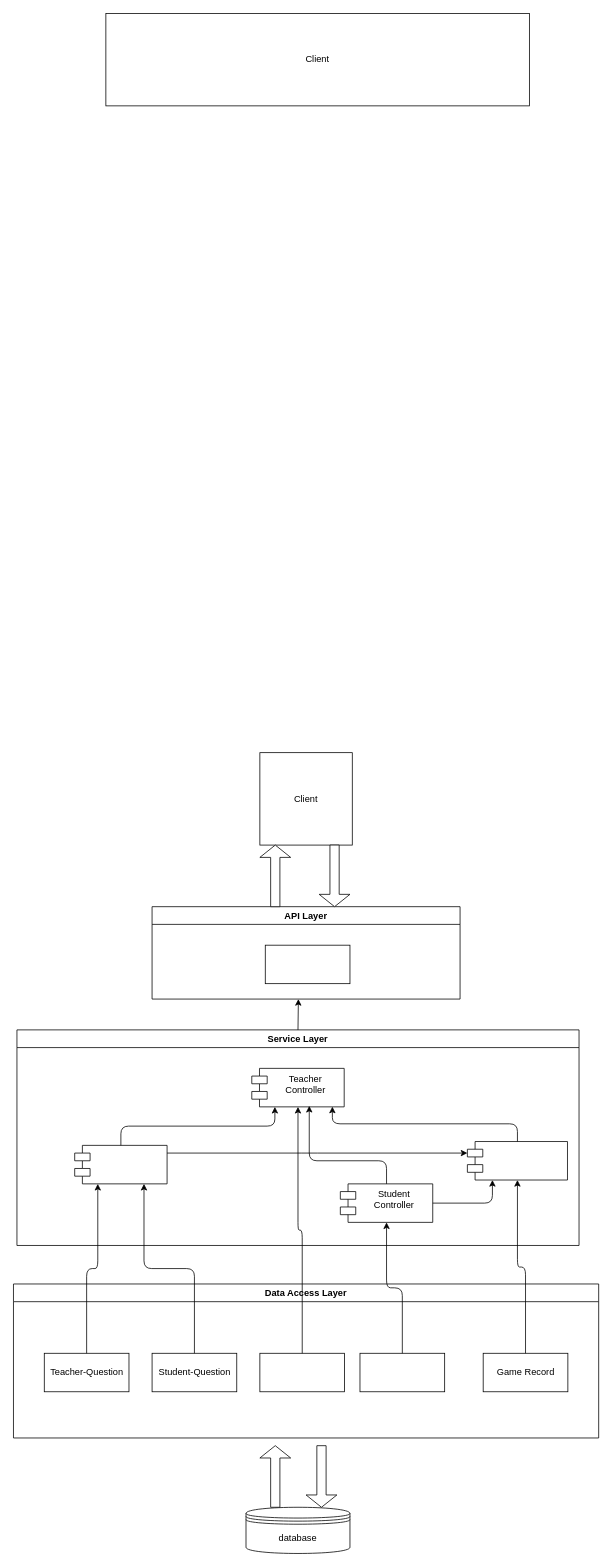
This 612x1567 diagram has some shape labels left out. Here are the shapes that lost their labels. From the top down, the centre of each, then its label:
At [307,964]: "API Manager".
At [120,1164]: "Question Controller".
At [517,1160]: "Game Record Controller".
At [302,1372]: "Teacher".
At [402,1372]: "Student".
